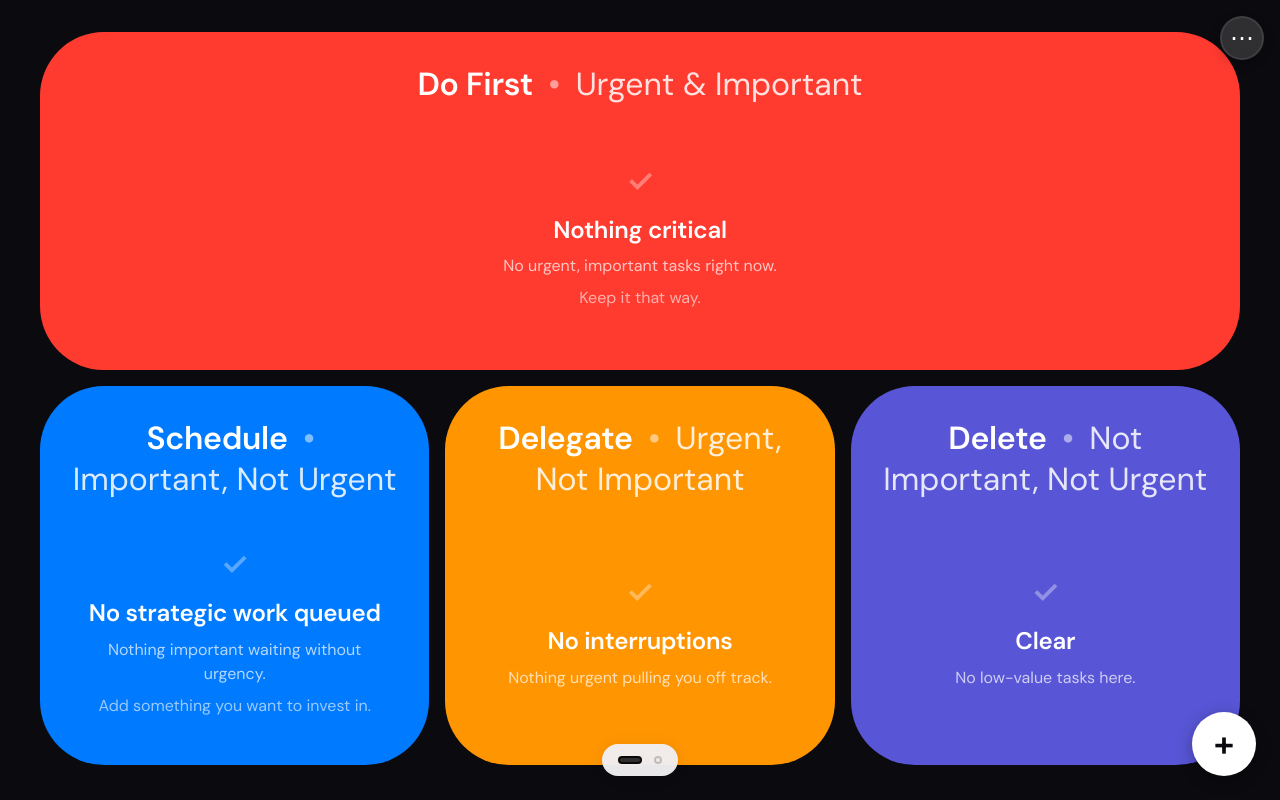
it: Task Creation Overlay Integration › should create a task and display it in the correct quadrant
Note: Find and click the Floating Action Button
Click the button named "add new task" at x=1224, y=744, box [1192,712,1256,776]
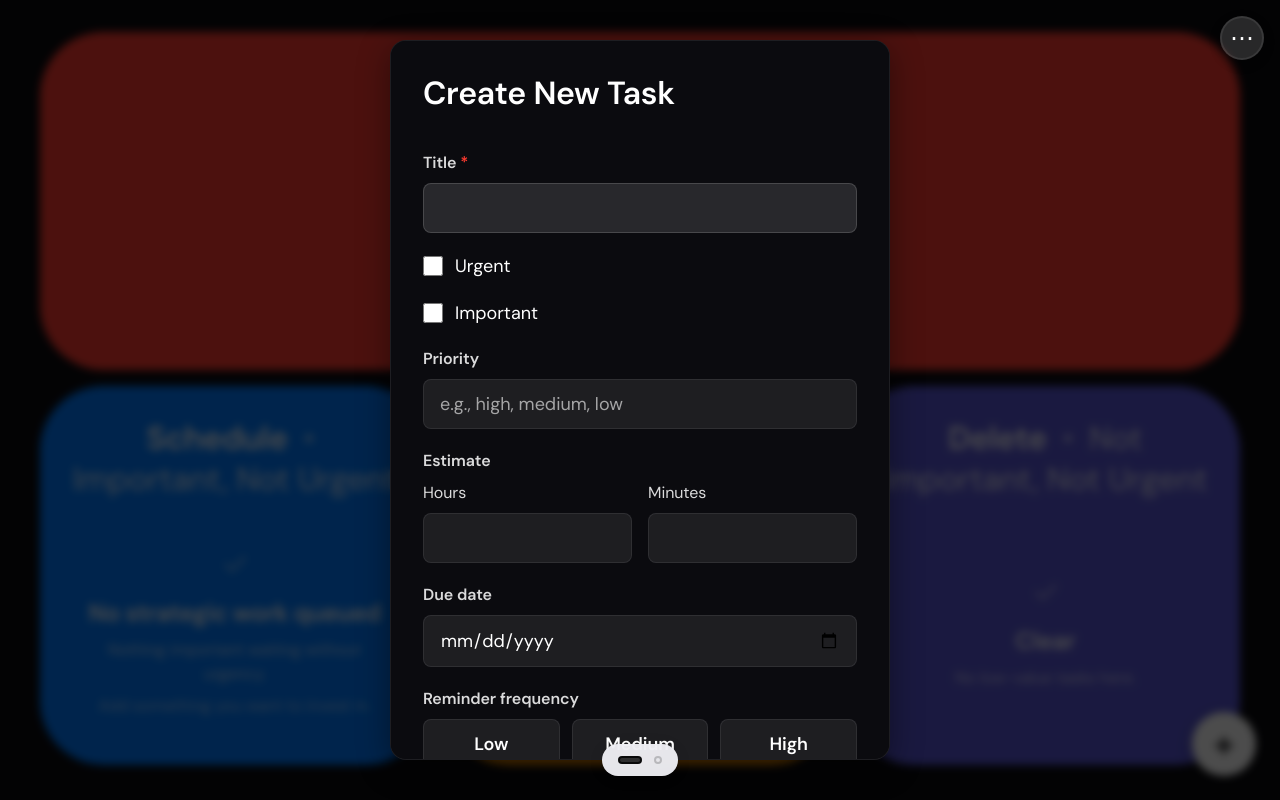
Expected: the heading "Create New Task" is shown, [423,72,675,114]
Expected: the field labelled "Title *" is shown
Type "Pay rent" into the field labelled "Title *" at x=640, y=208, box [423,183,857,233]
Click the checkbox labelled "Urgent" at x=433, y=266, box [423,256,443,276]
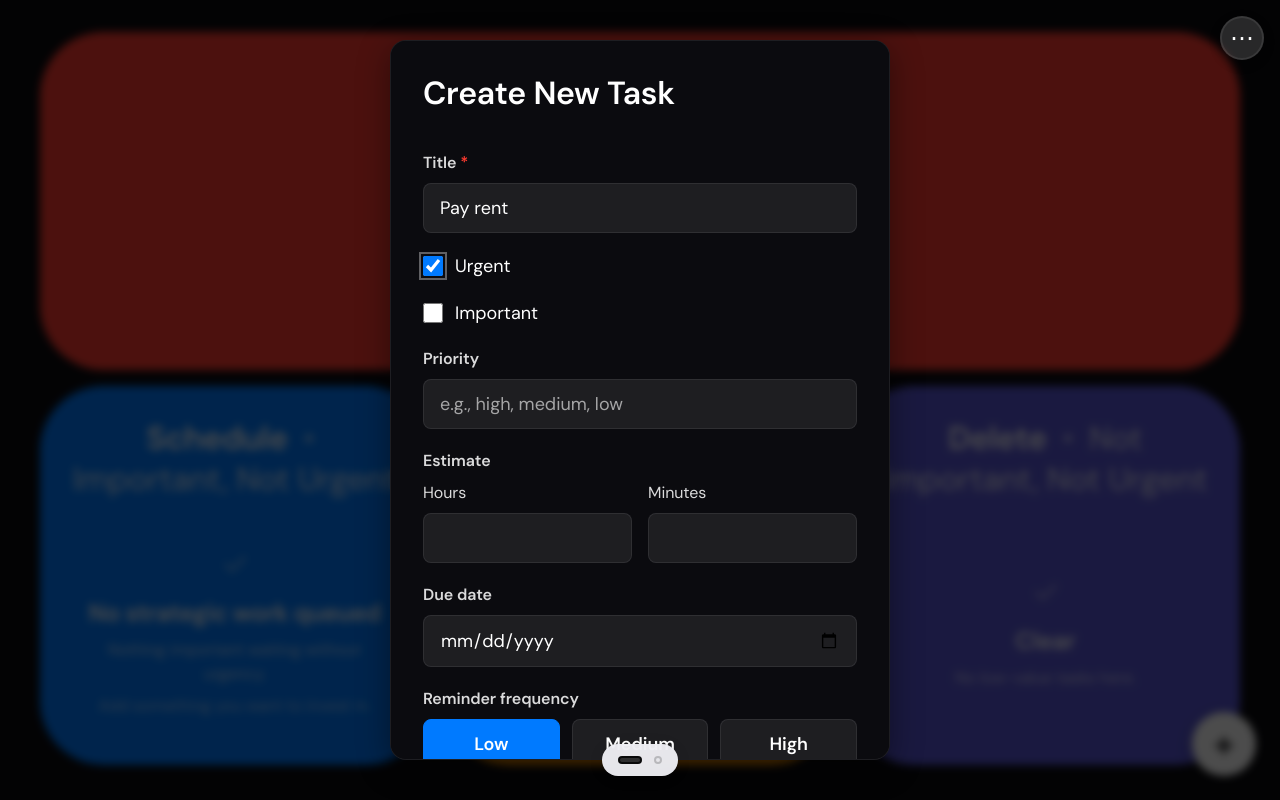
Click the checkbox labelled "Important" at x=433, y=313, box [423,303,443,323]
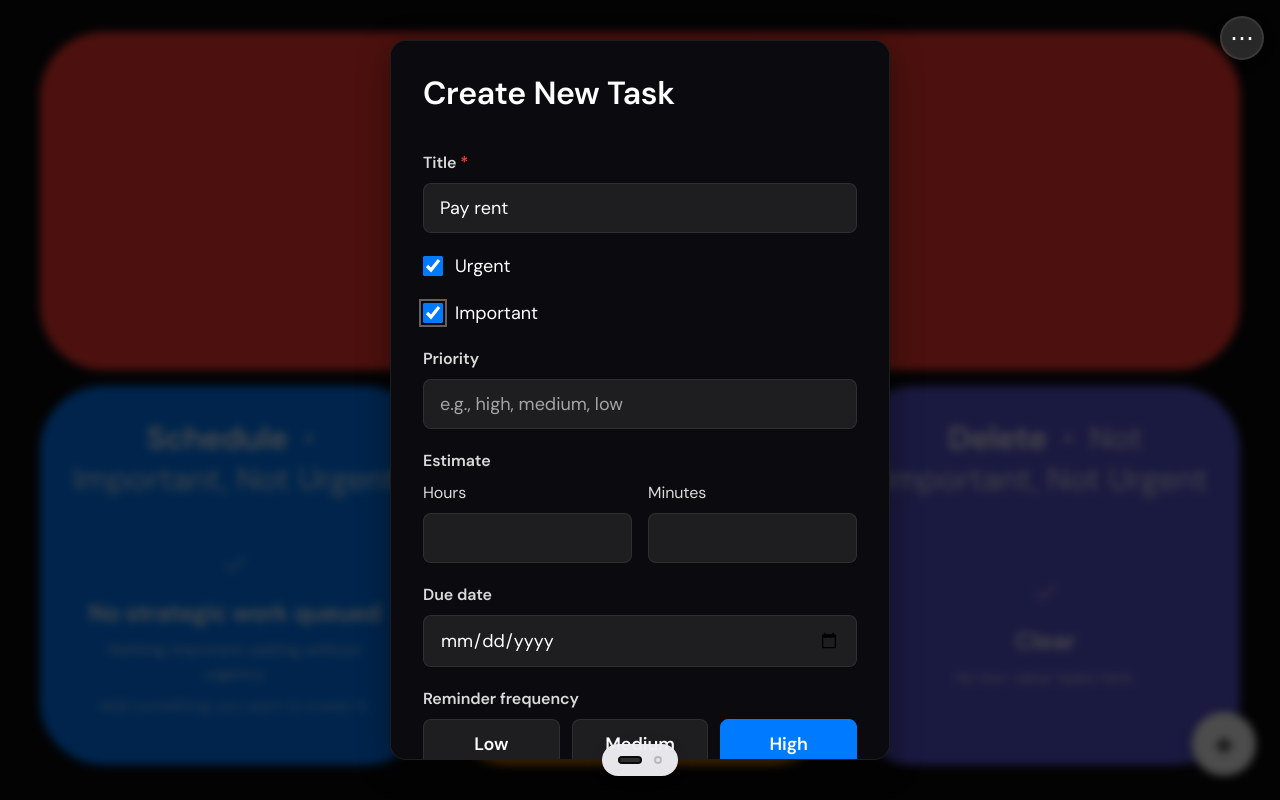
Type "high" into the field labelled "Priority" at x=640, y=404, box [423,379,857,429]
Type "0" into the number field labelled "Hours" at x=528, y=538, box [423,513,632,563]
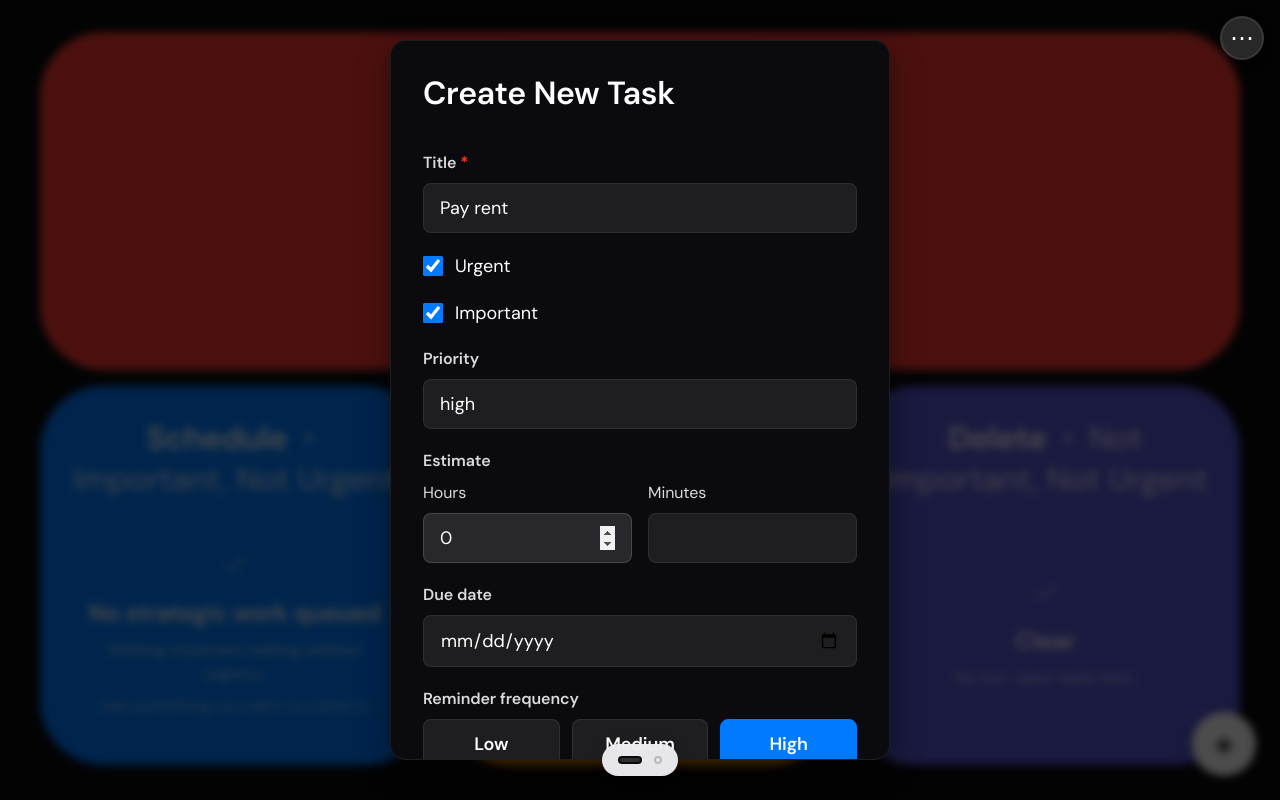
Type "30" into the number field labelled "Minutes" at x=752, y=538, box [648,513,857,563]
(page scrolled)
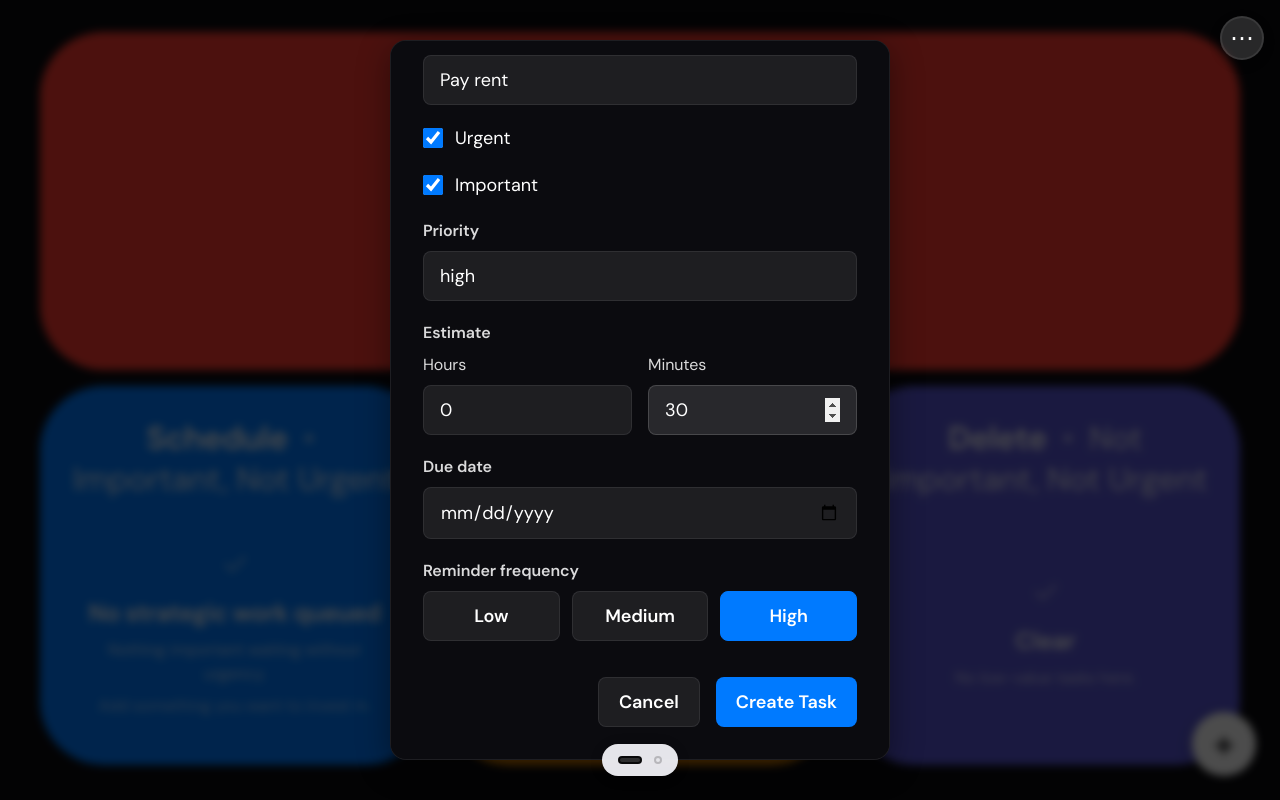
Note: Submit the form
Click the button "Create Task" at x=786, y=702, box [716,677,857,727]
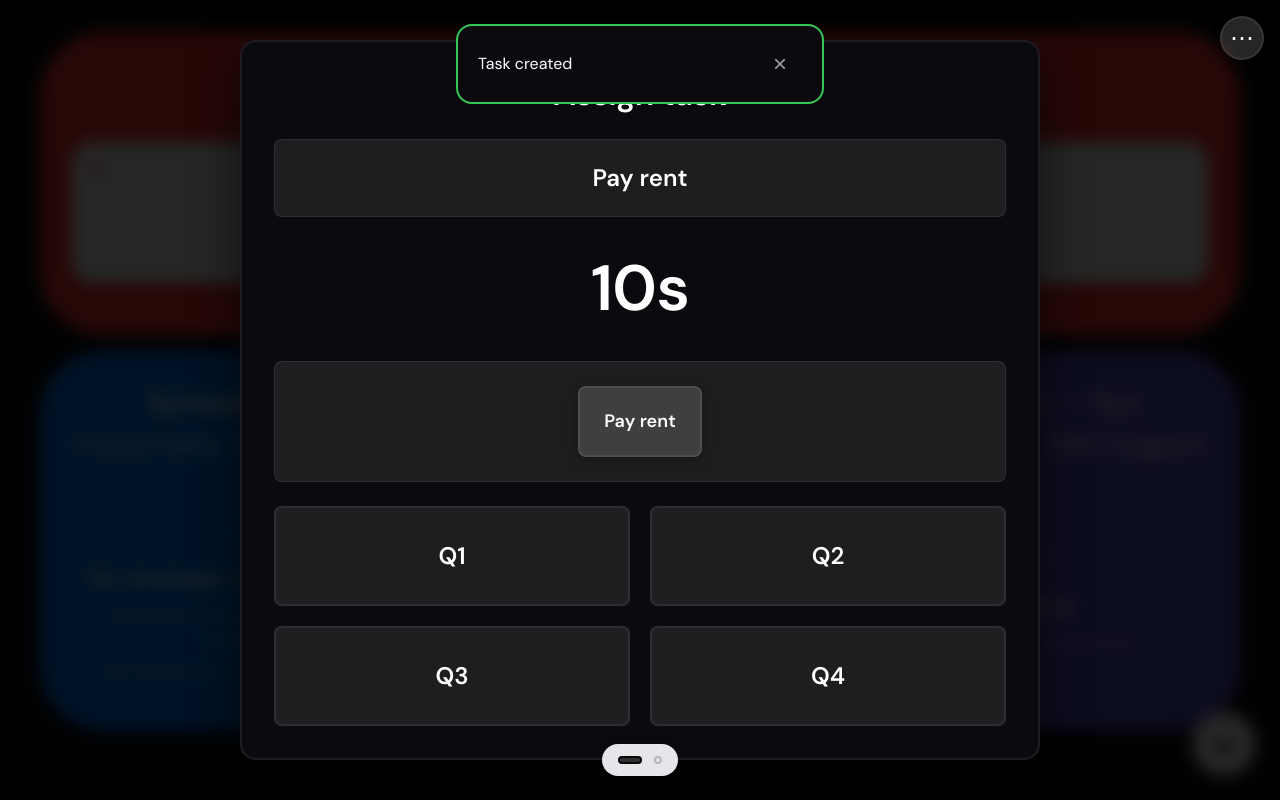
Expected: the label labelled "Title" is gone
Expected: the element with test id "assignment-overlay" is shown
Expected: the element with test id "quadrant-Q1" shows "Pay rent", [578,174,714,218]
